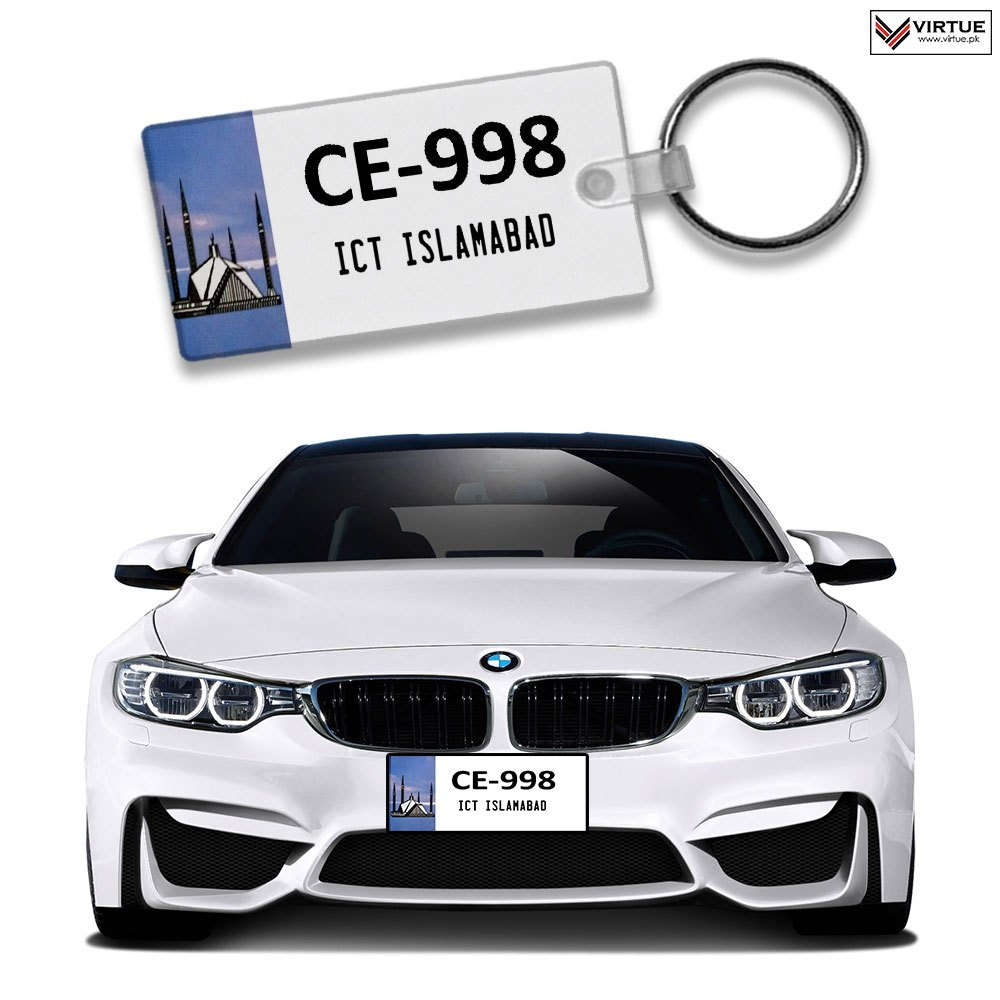plate: (123, 43, 659, 368), (380, 745, 594, 840)
